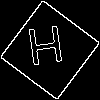H: (25, 25, 67, 75)
